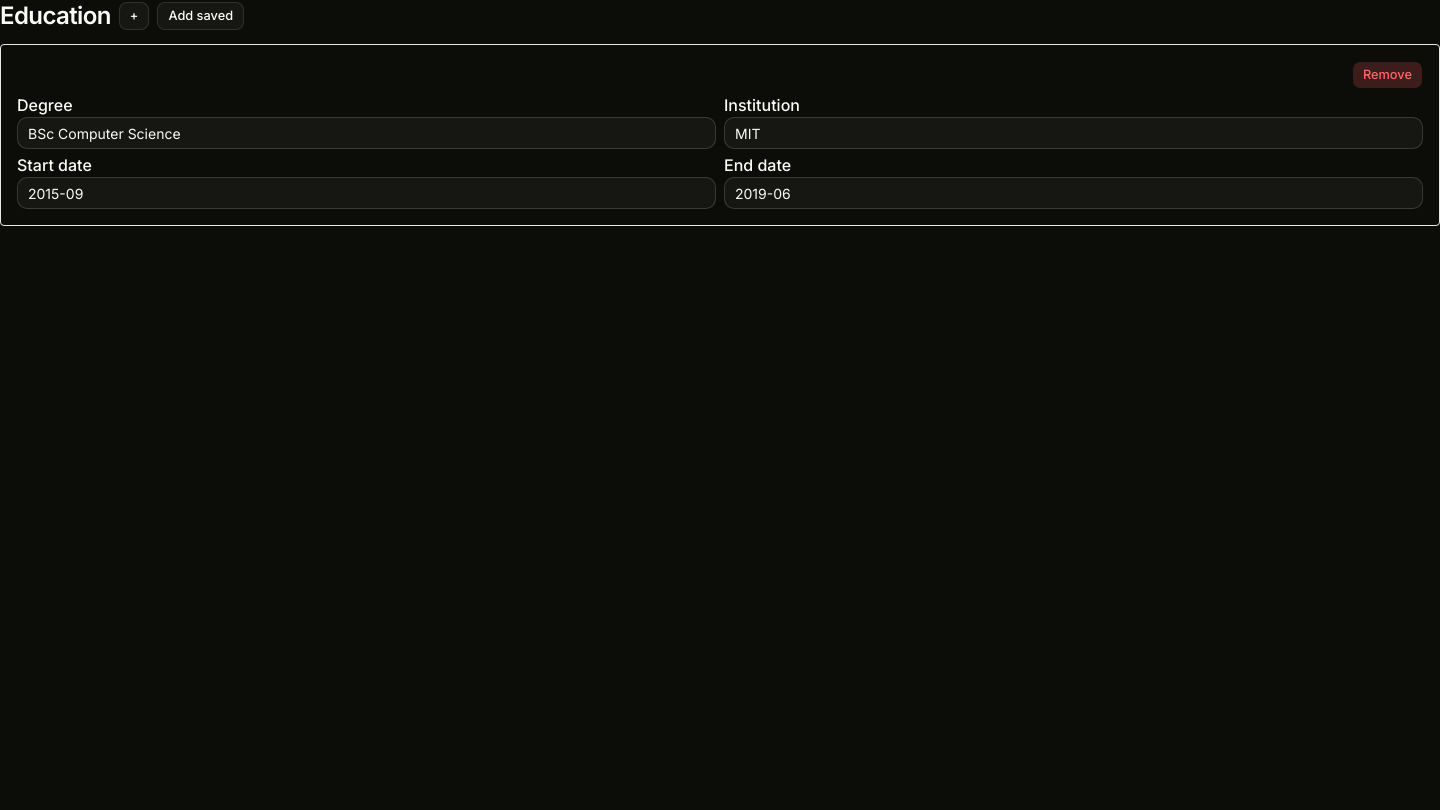
Test: EducationSection › filters already-linked entries from the lookup results
What coordinates should you click on to do the following:
click the button with test id "edu-lookup-trigger"
I would click on:
 (201, 16)
Its box is [157,2,244,30].
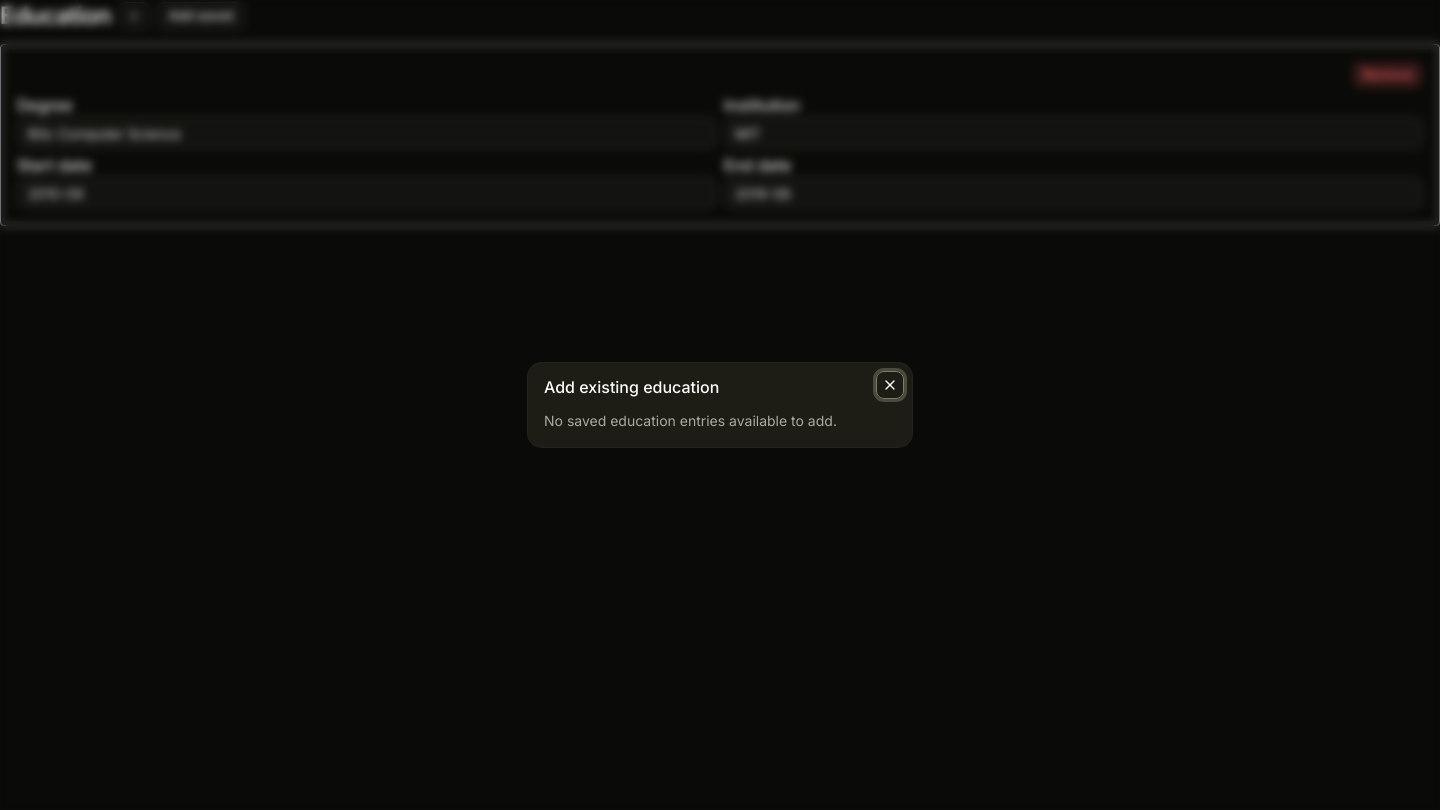
Check: the text "No saved education entries available to add." is shown, box [544,412,837,429]
